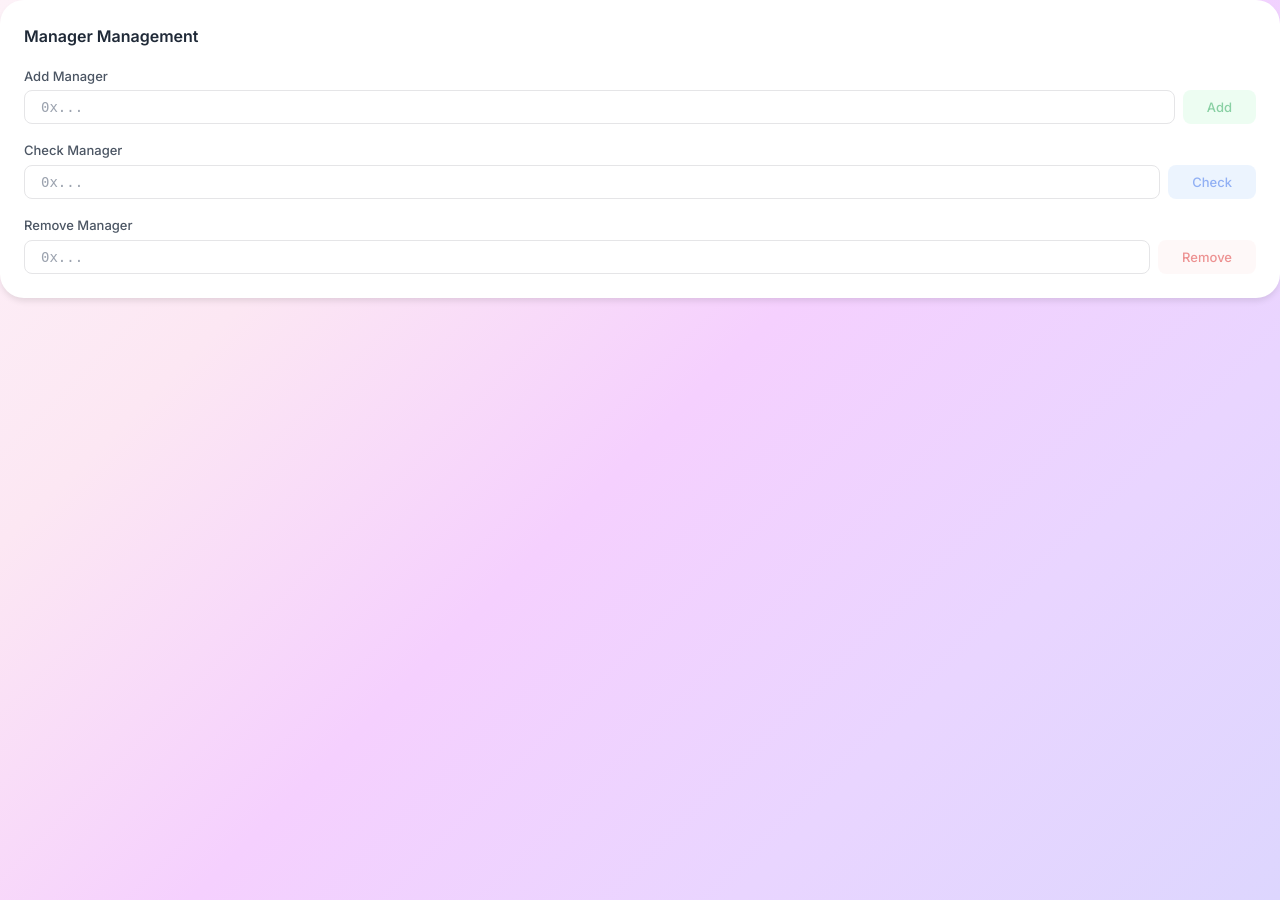
Test: ManagerManagement › Add Manager › shows success message on successful add
Step 1. Type "0x1234567890123456789012345678901234567890" into the field with placeholder "0x..." below "Add Manager" → {"x": 599, "y": 107}, box 24,90 -> 1175,124
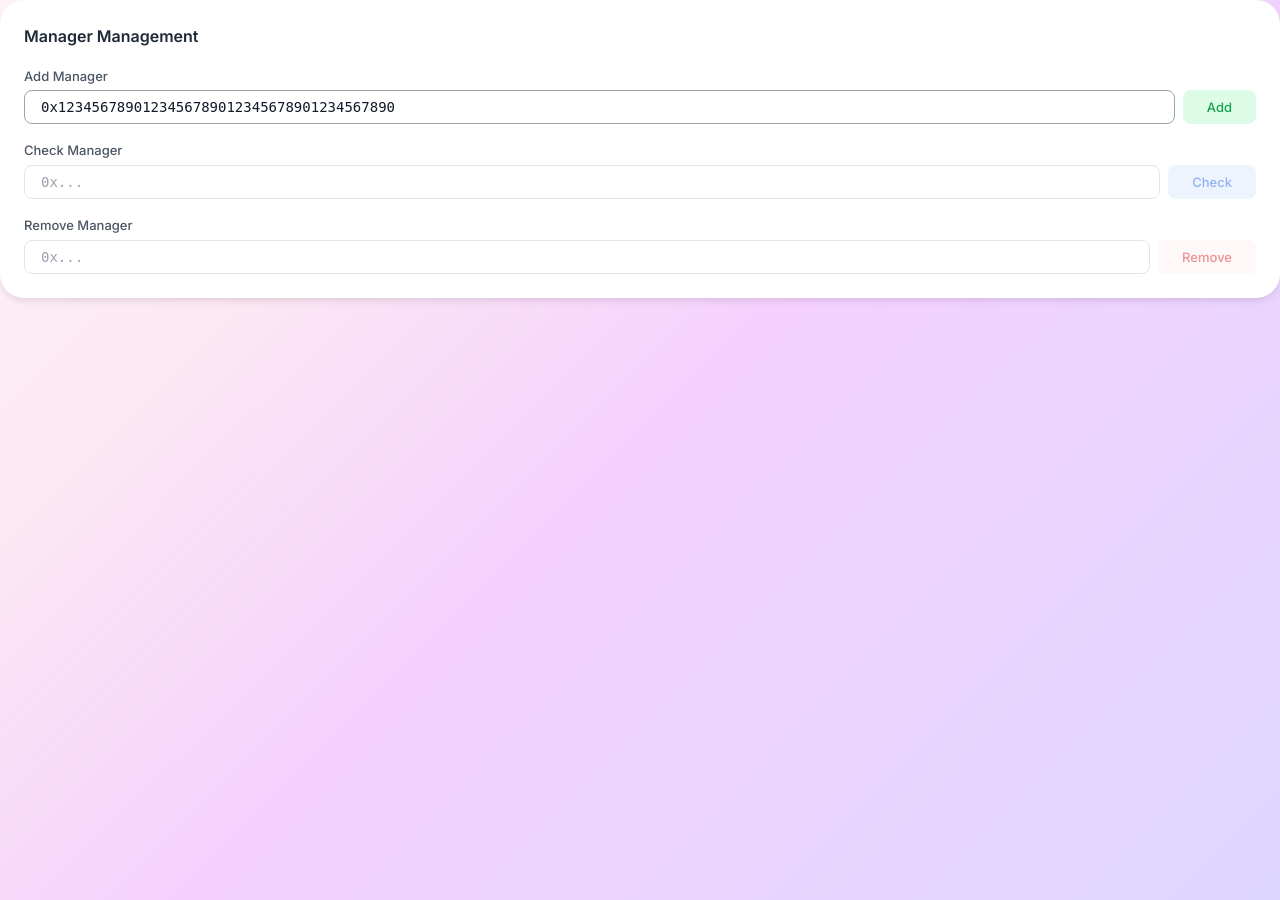
Step 2. Click the button "Add" → {"x": 1219, "y": 107}, box 1183,90 -> 1256,124
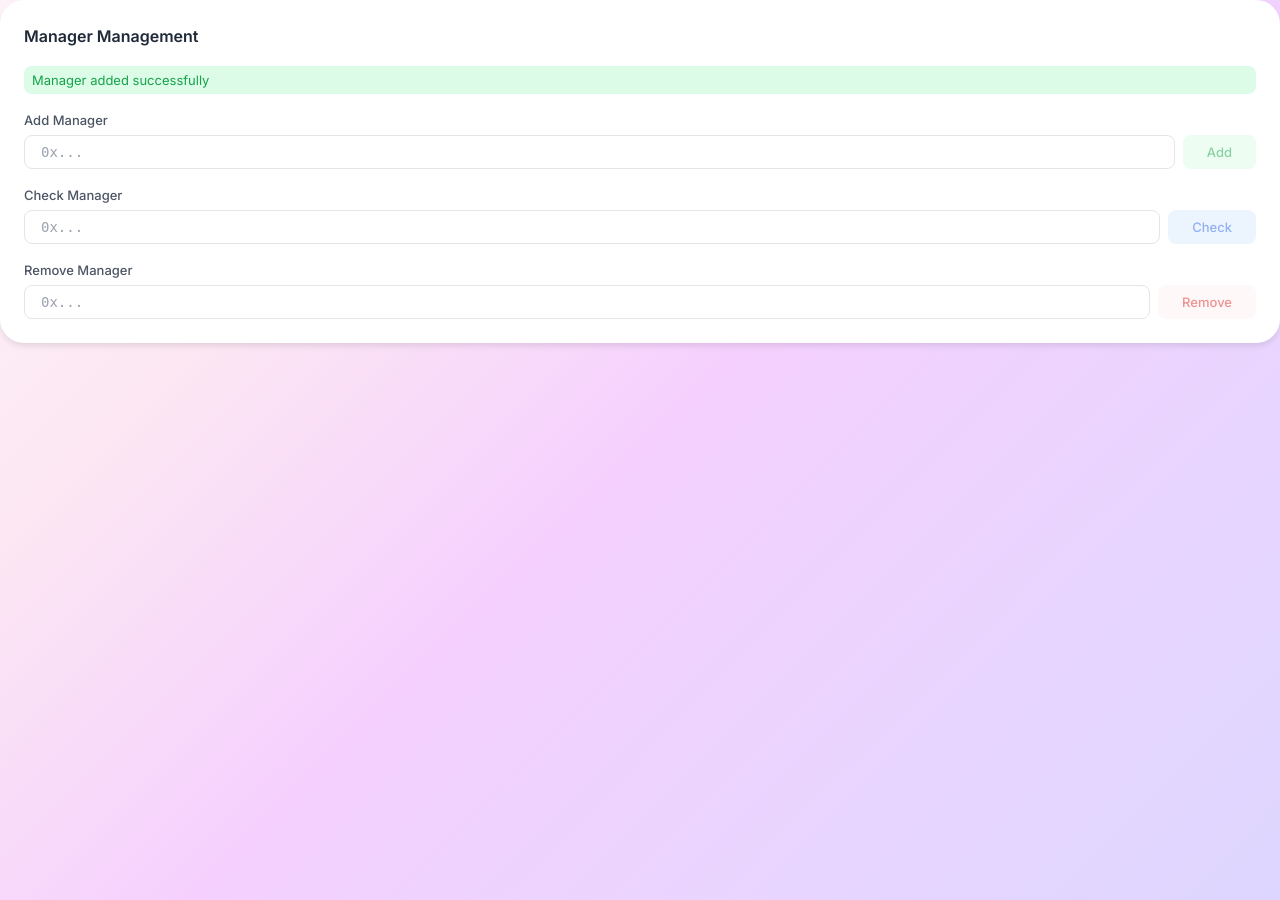
Now the text "Manager added successfully" is shown, box 24,66 -> 1256,94
